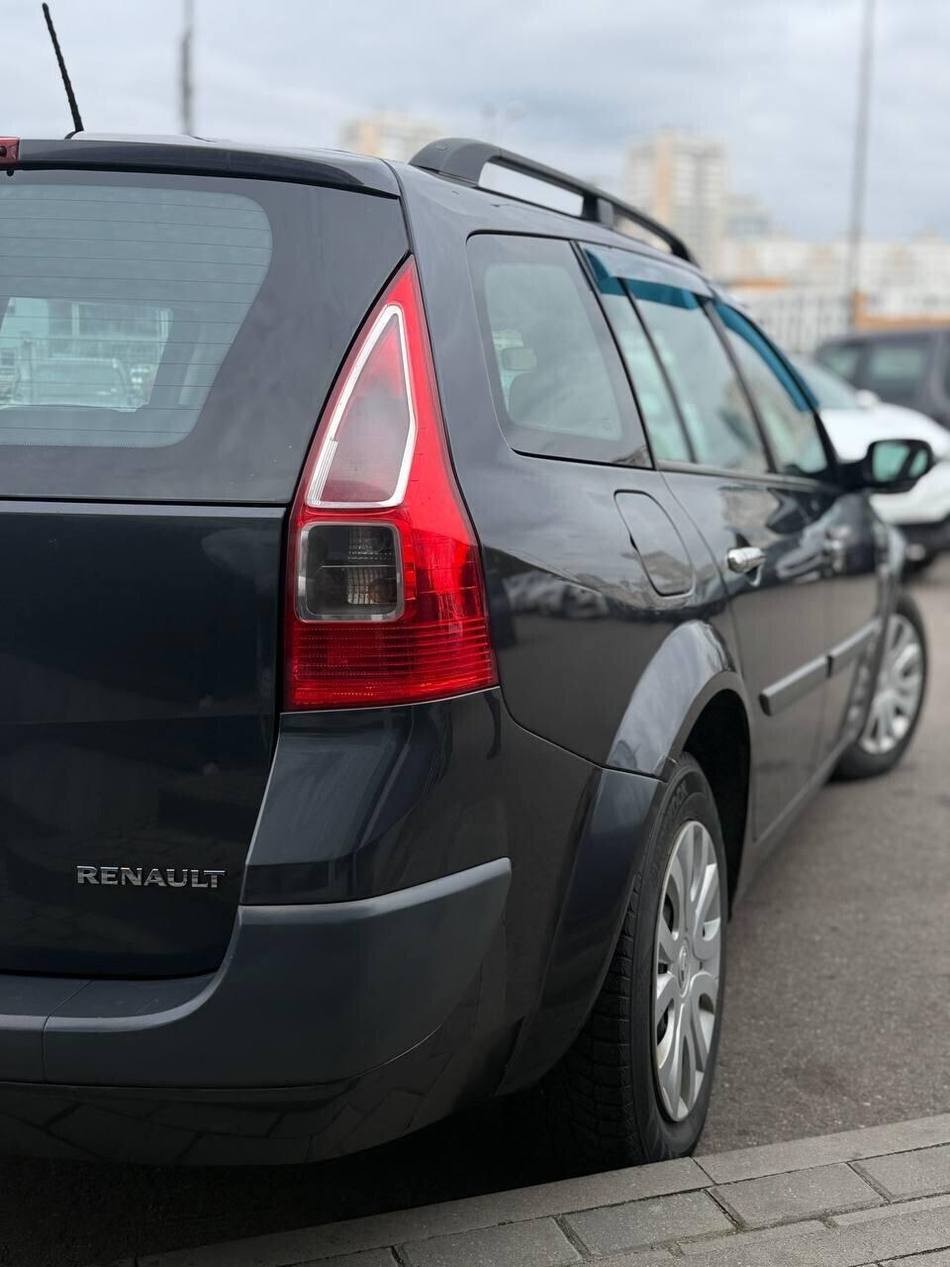Megane_2005-2009: (0, 122, 936, 1181)
